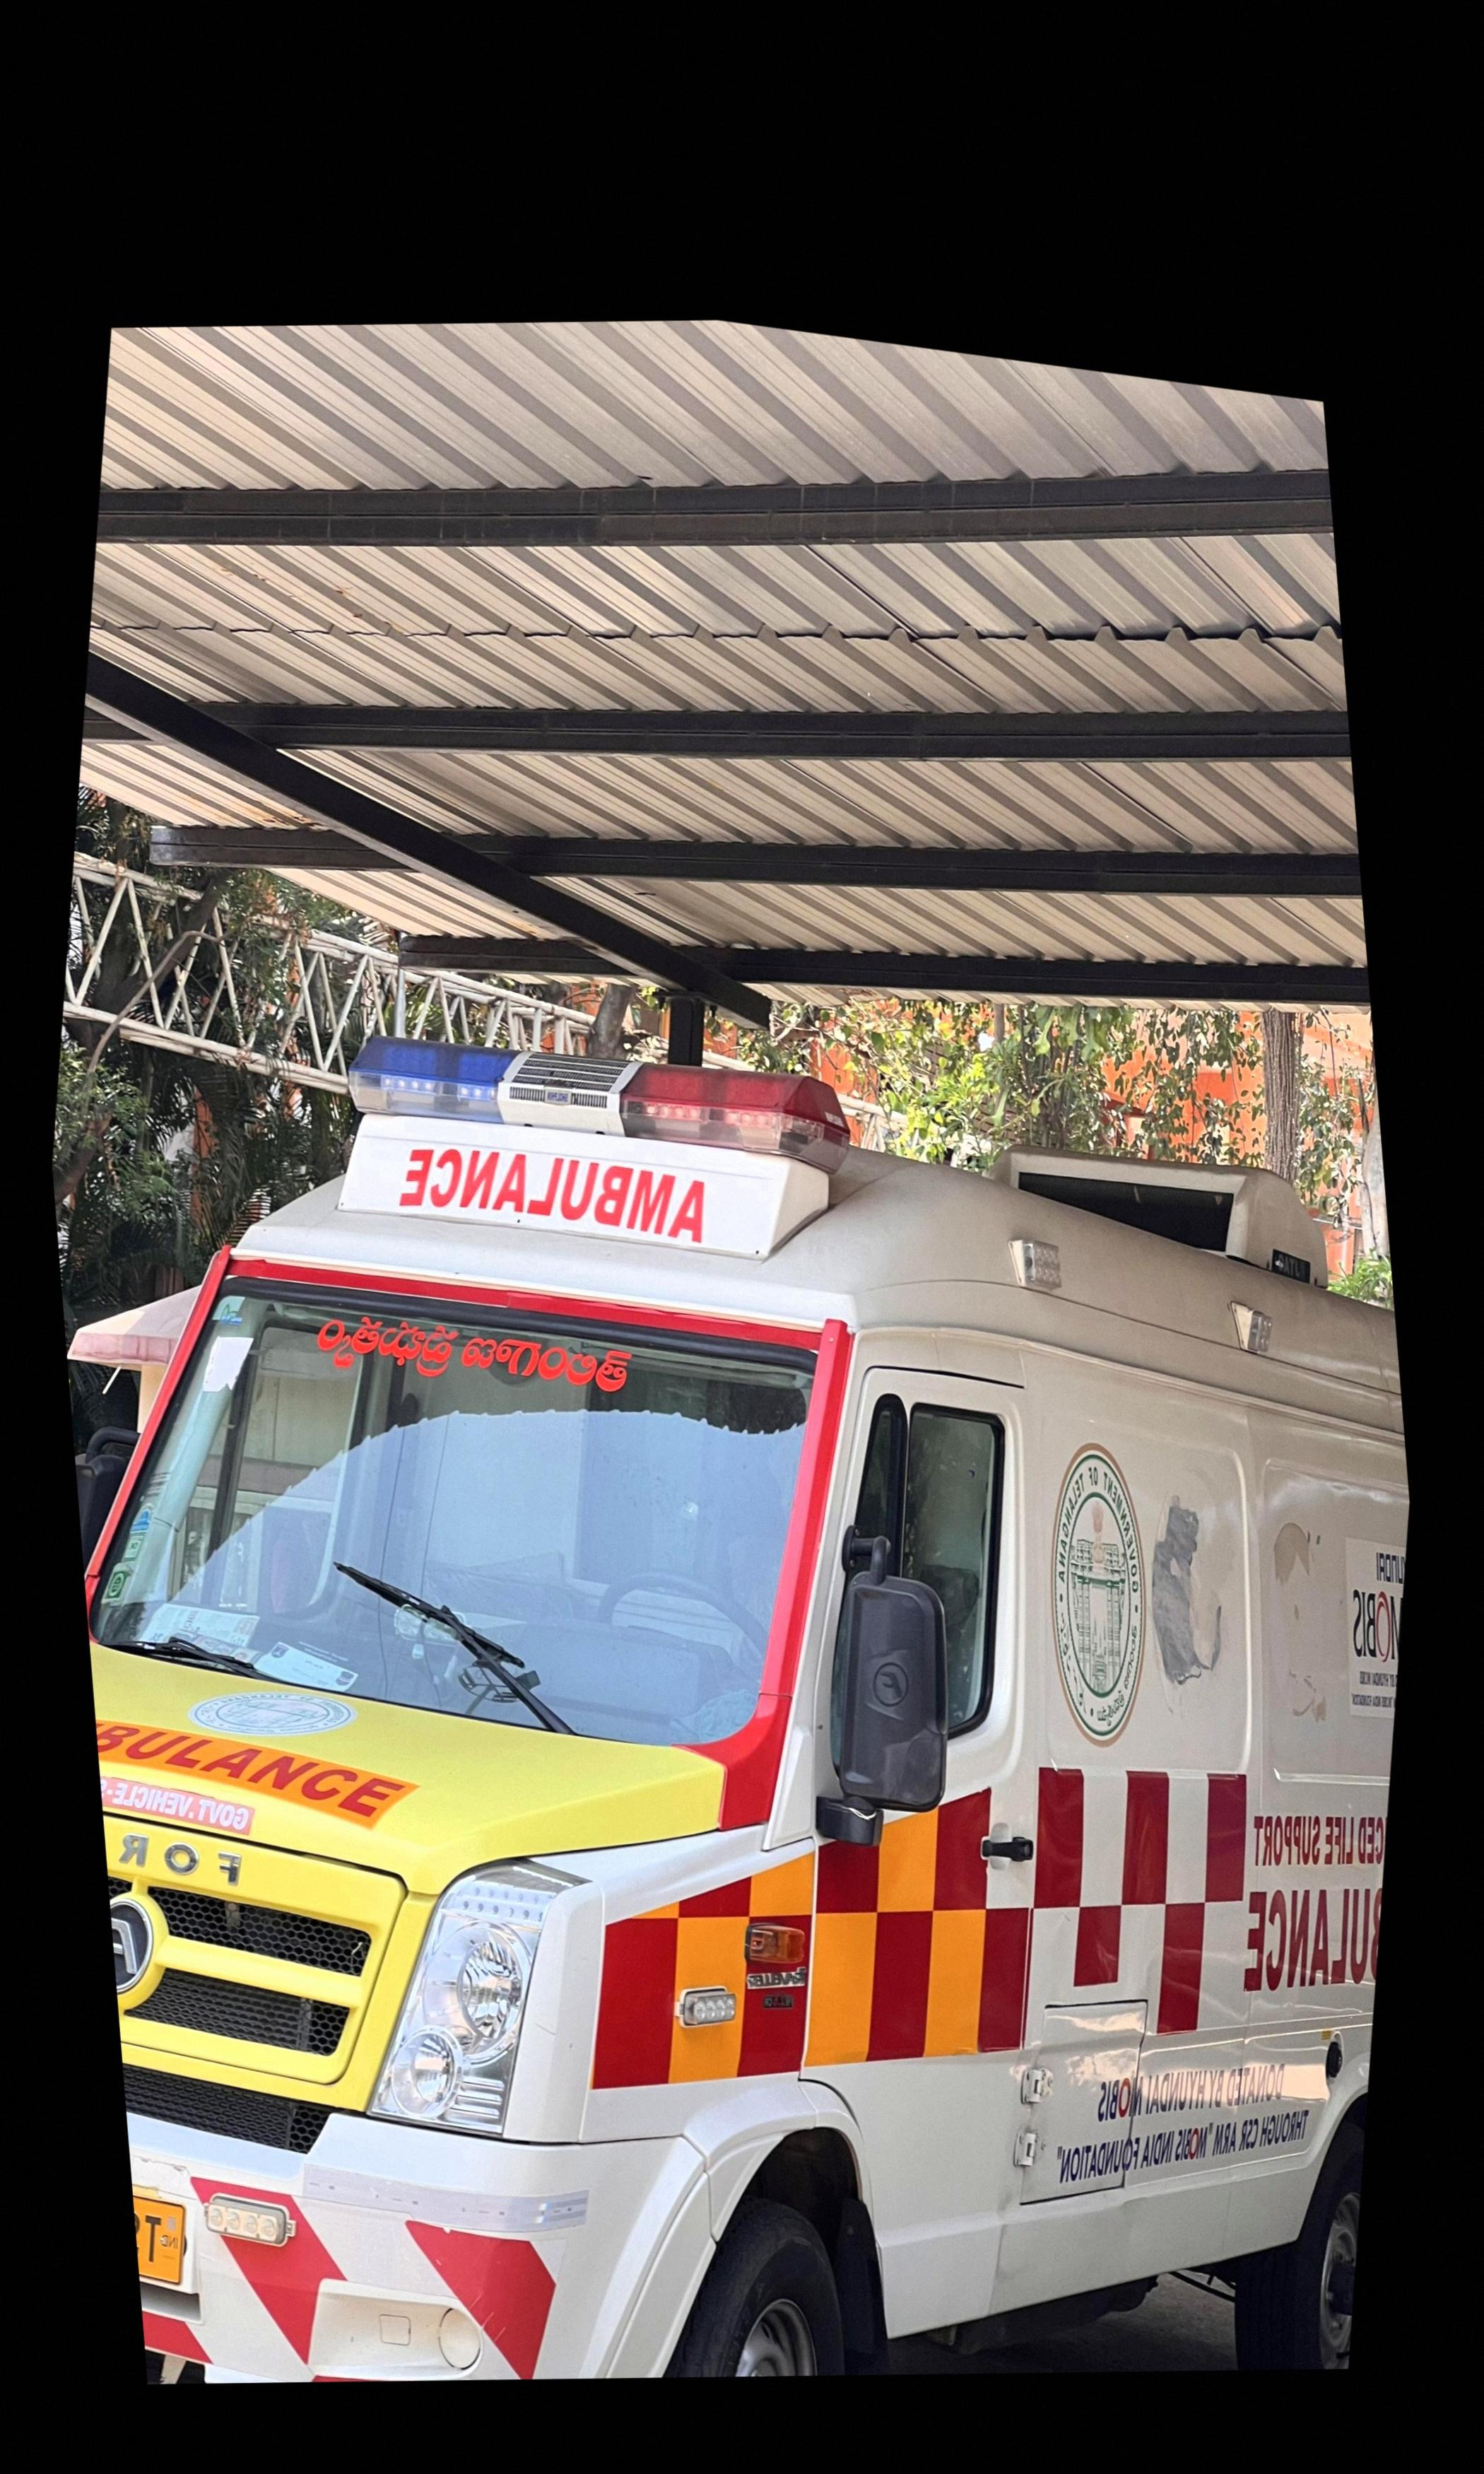ambulance: (72, 1048, 1408, 2386)
